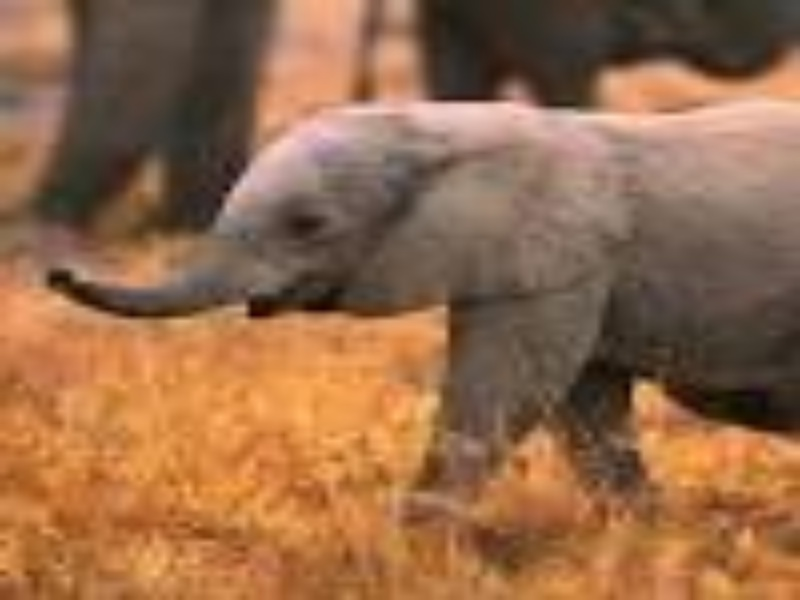elephant: (48, 62, 735, 593)
